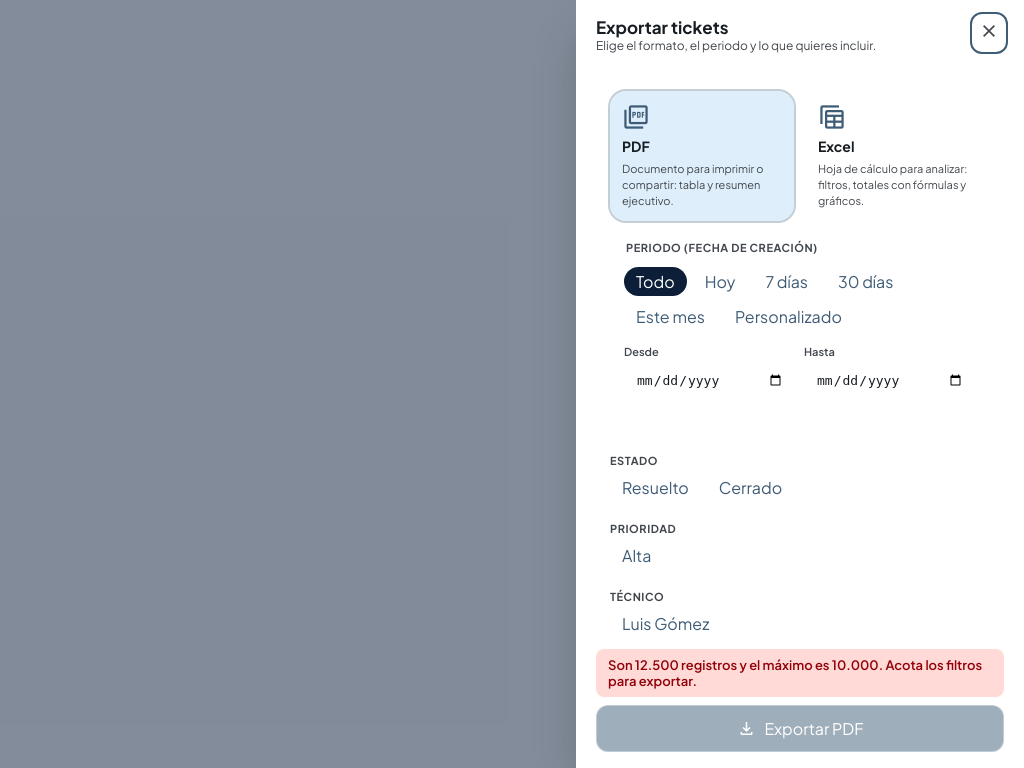
it: ExportDrawerComponent › layout and the live counter › blocks the export above the row limit and only warns about a large one
Expected: the button "Exportar PDF" is disabled, top-left (596, 705), bottom-right (1004, 752)
Click the button "Alta": point(637, 556) top-left (610, 541), bottom-right (663, 570)
Wait 350 ms
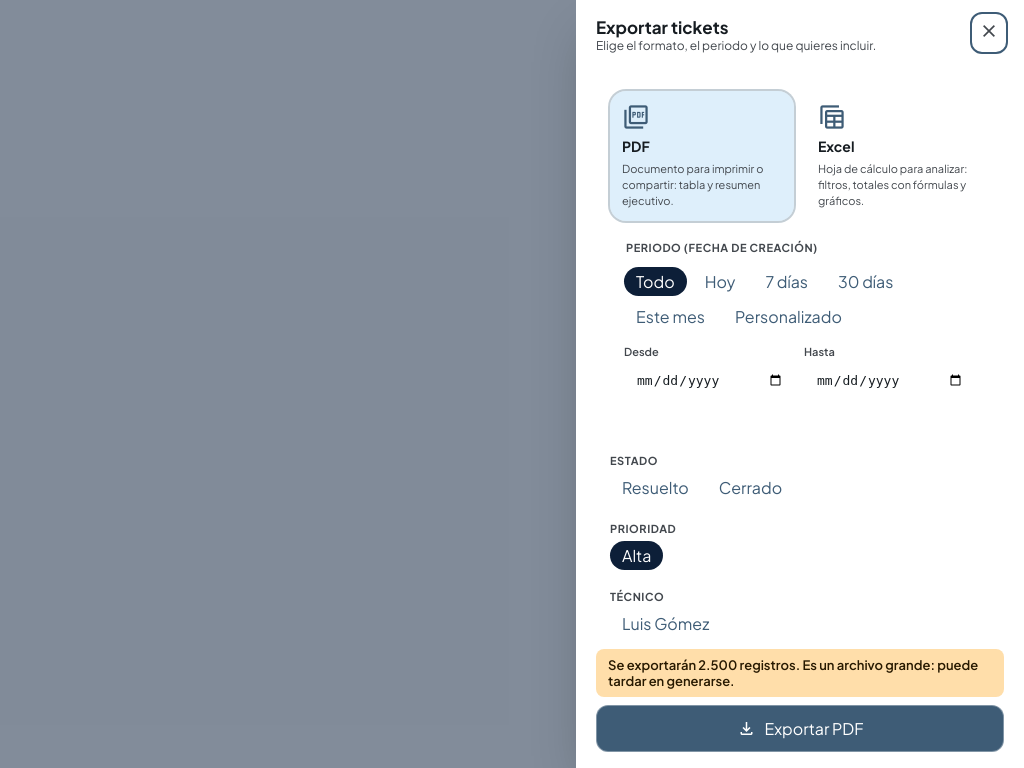
Expected: the 2nd message shows "puede tardar", top-left (608, 657), bottom-right (978, 689)
Expected: the button "Exportar PDF" is enabled, top-left (596, 705), bottom-right (1004, 752)
